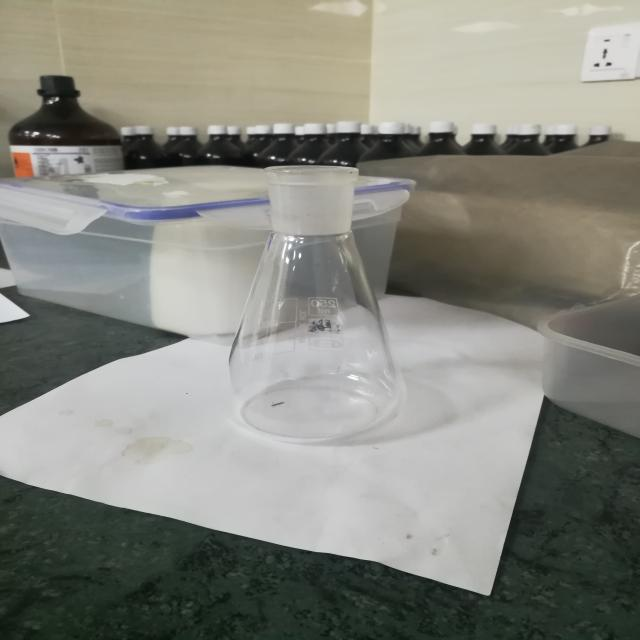Conical_Flask: (179, 129, 469, 461)
